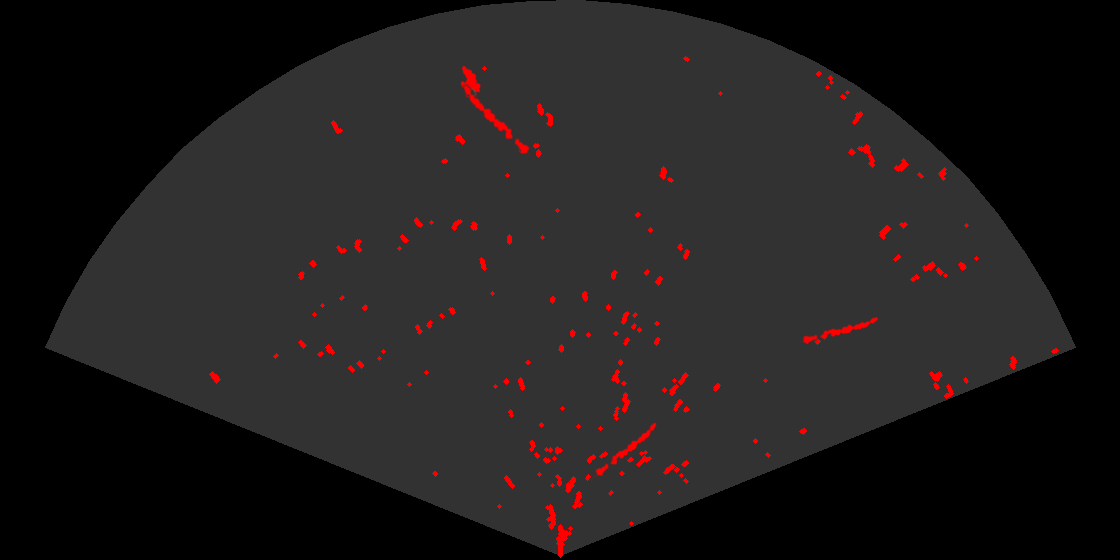AUV: (459, 64, 483, 103)
chain: (462, 83, 536, 163), (589, 421, 658, 483), (799, 315, 880, 346)
